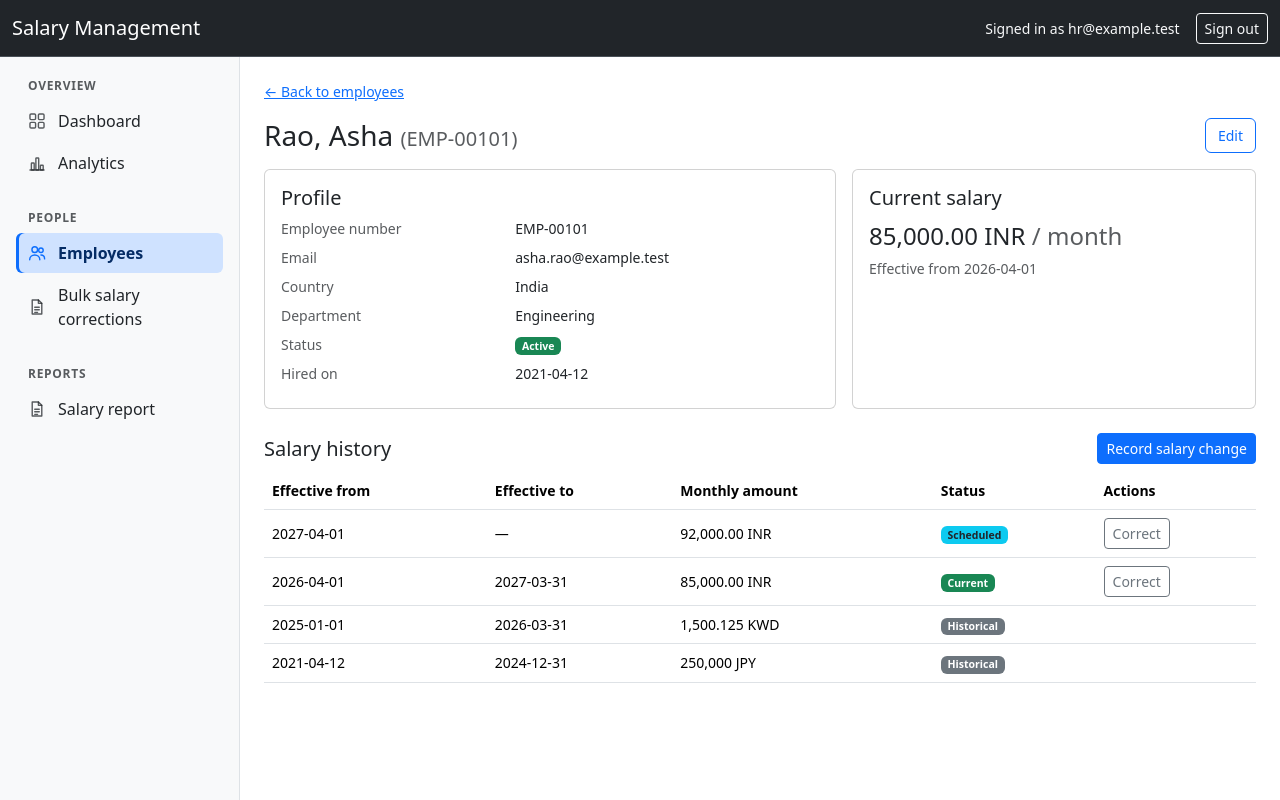
Test: Correct salary record › is pre-filled, shows the dates read-only, and saves only the changed amount
expect the button "Record salary change" is enabled: met, box x1=1098 y1=433 x2=1256 y2=464
Click the button with aria-label "Correct salary effective from 2027-04-01": coordinates (1137, 534) x1=1104 y1=518 x2=1170 y2=549
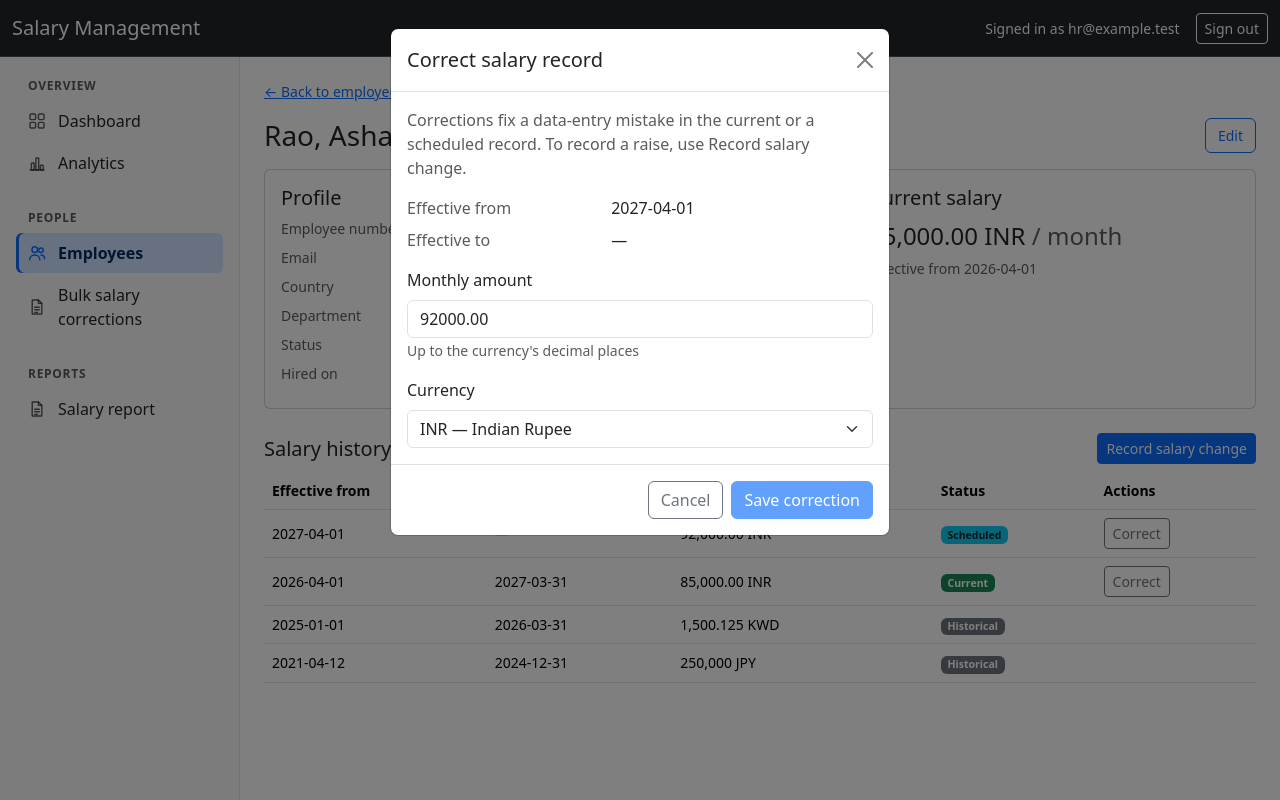
expect the dialog "Correct salary record" shows "To record a raise, use Record salary change.": met, box x1=407 y1=109 x2=814 y2=179
expect the field labelled "Monthly amount" holds "92000.00": met
expect the dropdown labelled "Currency" shows "INR — Indian Rupee": met, box x1=407 y1=410 x2=873 y2=448
Replace the text in the field labelled "Monthly amount" with "93000.00": coordinates (640, 319) x1=407 y1=300 x2=873 y2=338
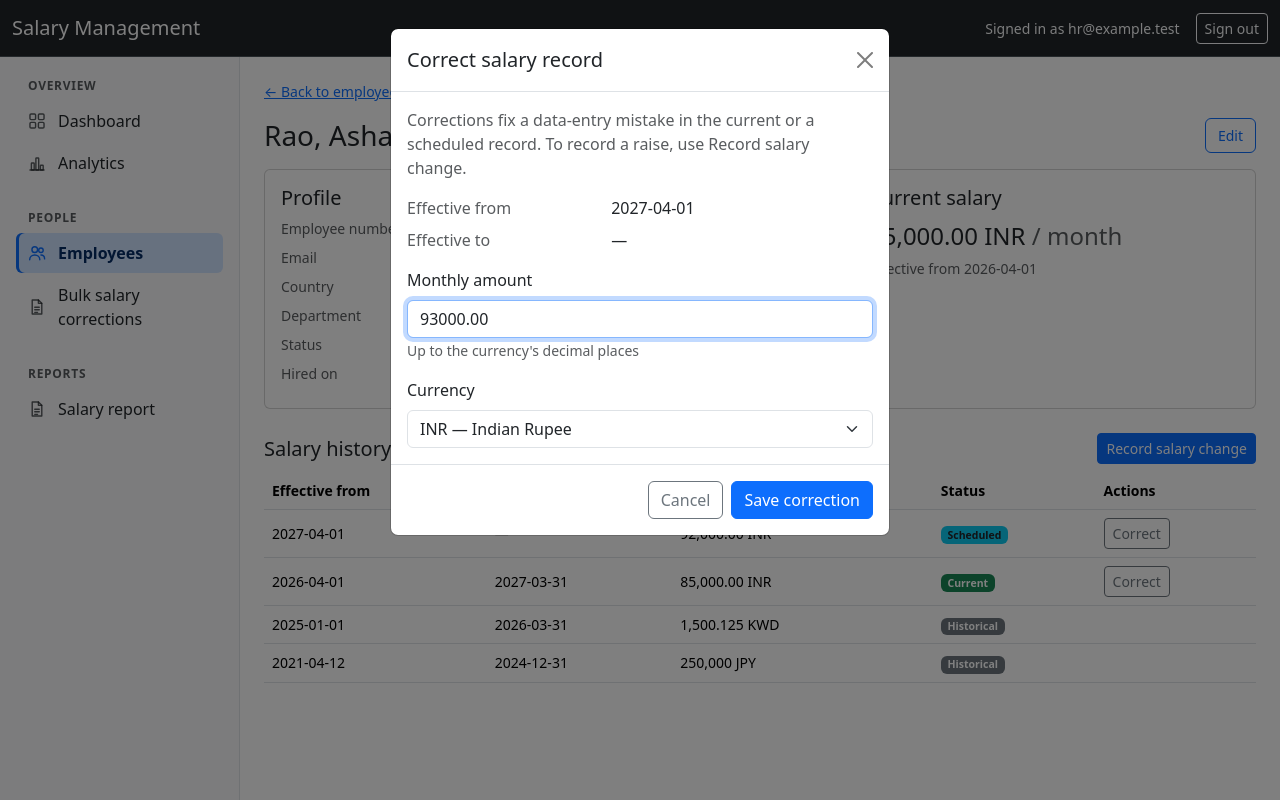
Click the button "Save correction": coordinates (802, 500) x1=732 y1=481 x2=873 y2=519
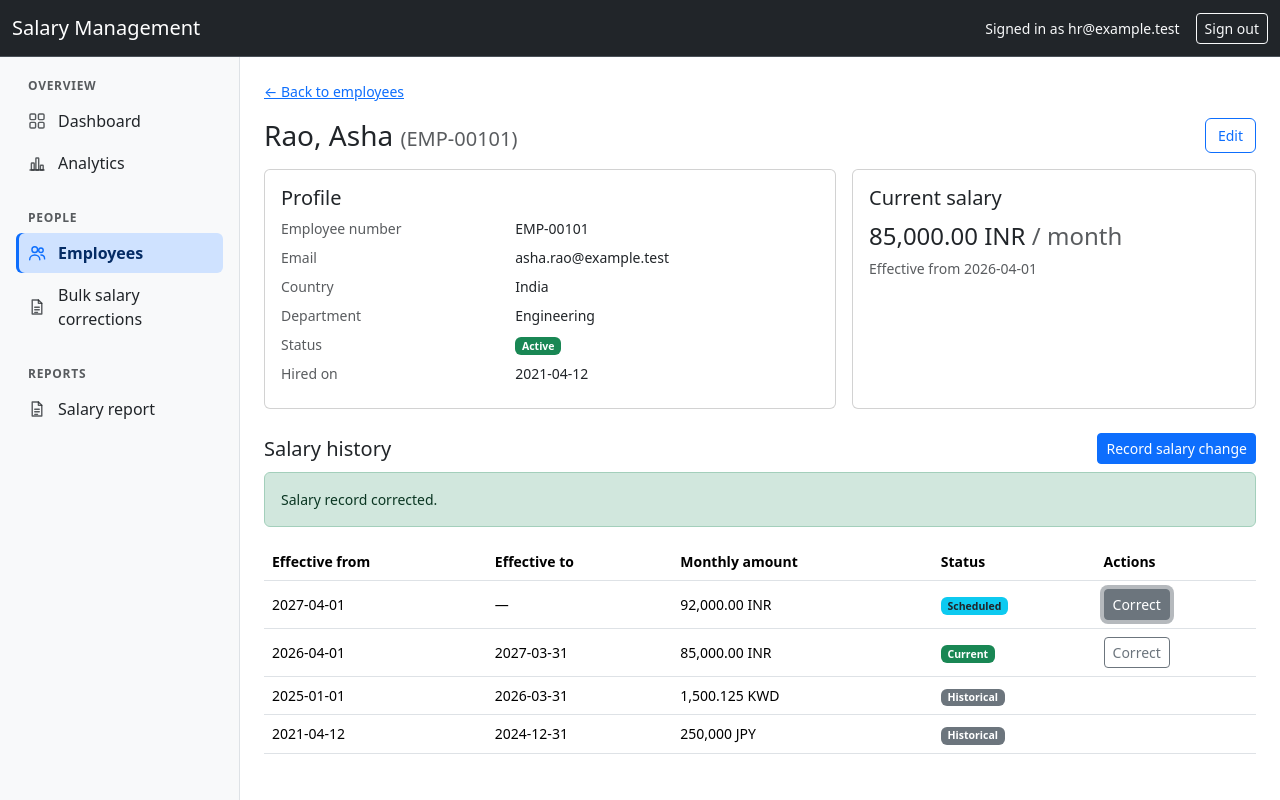
expect the message reads "Salary record corrected.": met, box x1=281 y1=490 x2=437 y2=509
